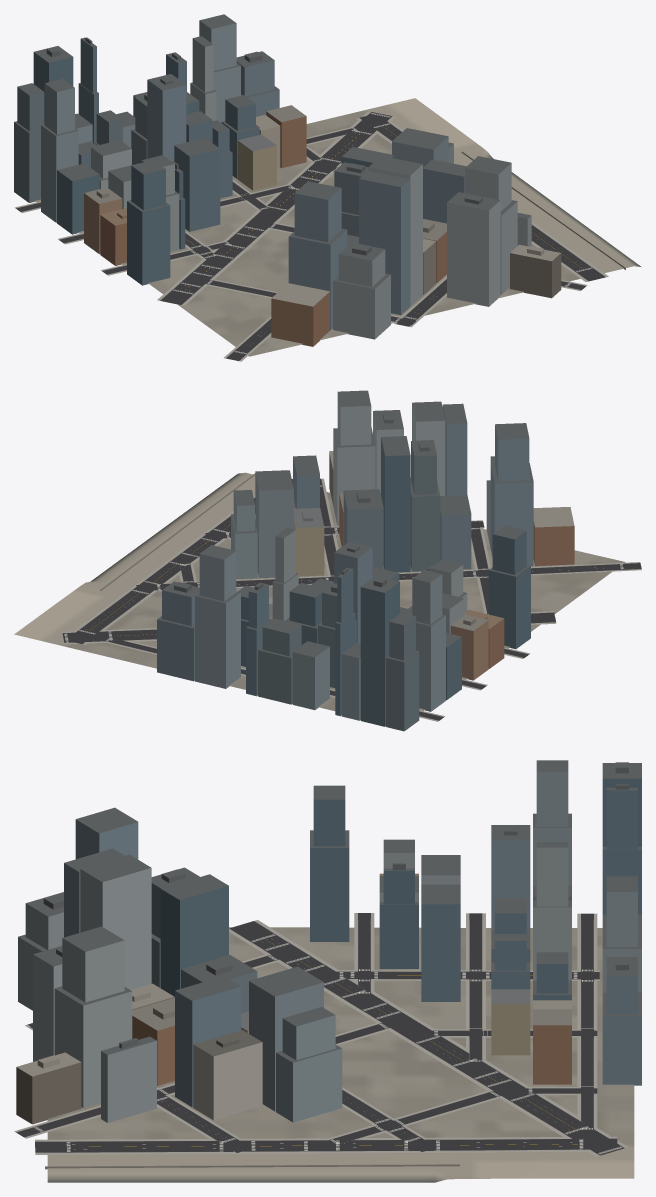
3 views of the same model, one above another, from view 1: azimuth 30°, elevation 25°; view 2: azimuth 150°, elevation 25°; view 3: azimuth 270°, elevation 25° (orthographic). The views are drawn at different scales.
Parts seen in each view (by area): view 1: buildings, ground, roads; view 2: buildings, ground, roads; view 3: buildings, ground, roads.
Boxes of the visible parts, left/top/right/bottom form: buildings: left=14, top=14, right=625, bottom=346; ground: left=35, top=98, right=640, bottom=356; roads: left=14, top=111, right=608, bottom=361; buildings: left=100, top=390, right=574, bottom=731; ground: left=14, top=472, right=625, bottom=710; roads: left=62, top=478, right=641, bottom=721; buildings: left=16, top=760, right=641, bottom=1169; ground: left=47, top=927, right=634, bottom=1182; roads: left=14, top=913, right=628, bottom=1156.
Bounding box in the file's own units: 528 × 177 × 535.
